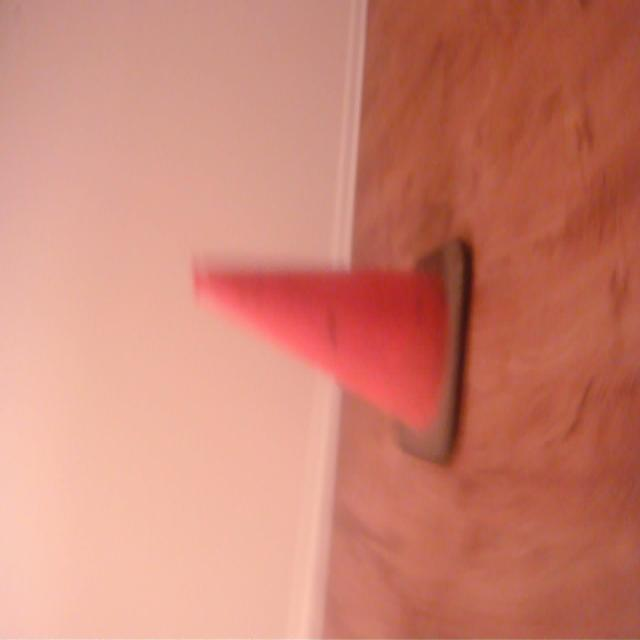traffic cone: (181, 228, 478, 483)
